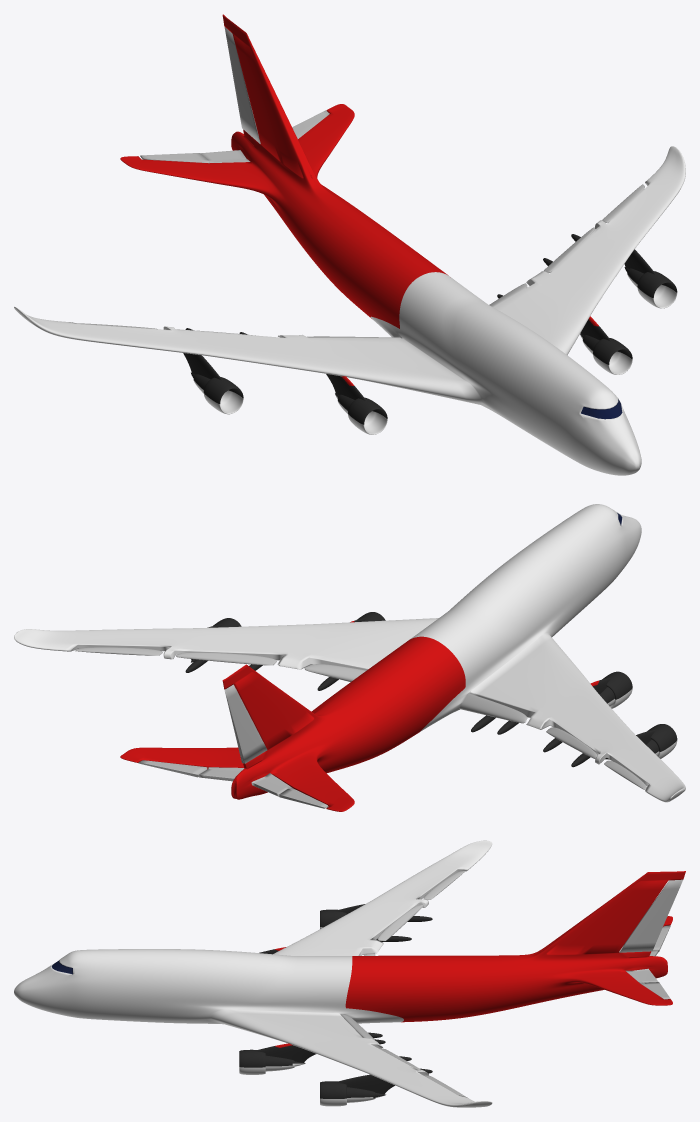
Rendered from boing_747.glb.
3 views of the same model, one above another, from view 1: azimuth 30°, elevation 25°; view 2: azimuth 150°, elevation 25°; view 3: azimuth 270°, elevation 25° (orthographic). The views are drawn at different scales.
Parts seen in each view (by area): view 1: Cylinder, Cylinder.001, Cylinder.002; view 2: Cylinder, Cylinder.004, Cylinder.001, Cylinder.005, Cylinder.002, Cylinder.003, Cylinder.006; view 3: Cylinder, Cylinder.001, Cylinder.005, Cylinder.006, Cylinder.002.
Boxes of the visible parts, bbox=[...] form: Cylinder: bbox=[14, 14, 685, 475]; Cylinder.001: bbox=[224, 26, 260, 143]; Cylinder.002: bbox=[140, 110, 329, 163]; Cylinder: bbox=[14, 504, 685, 811]; Cylinder.004: bbox=[304, 664, 527, 723]; Cylinder.001: bbox=[224, 684, 267, 763]; Cylinder.005: bbox=[176, 652, 597, 759]; Cylinder.002: bbox=[138, 760, 327, 808]; Cylinder.003: bbox=[198, 767, 292, 796]; Cylinder.006: bbox=[75, 647, 646, 789]; Cylinder: bbox=[14, 840, 685, 1107]; Cylinder.001: bbox=[619, 879, 682, 952]; Cylinder.005: bbox=[378, 905, 423, 1070]; Cylinder.006: bbox=[423, 871, 465, 1096]; Cylinder.002: bbox=[641, 925, 670, 999].
Bounding box in the file's own units: 971 × 268 × 1058.
